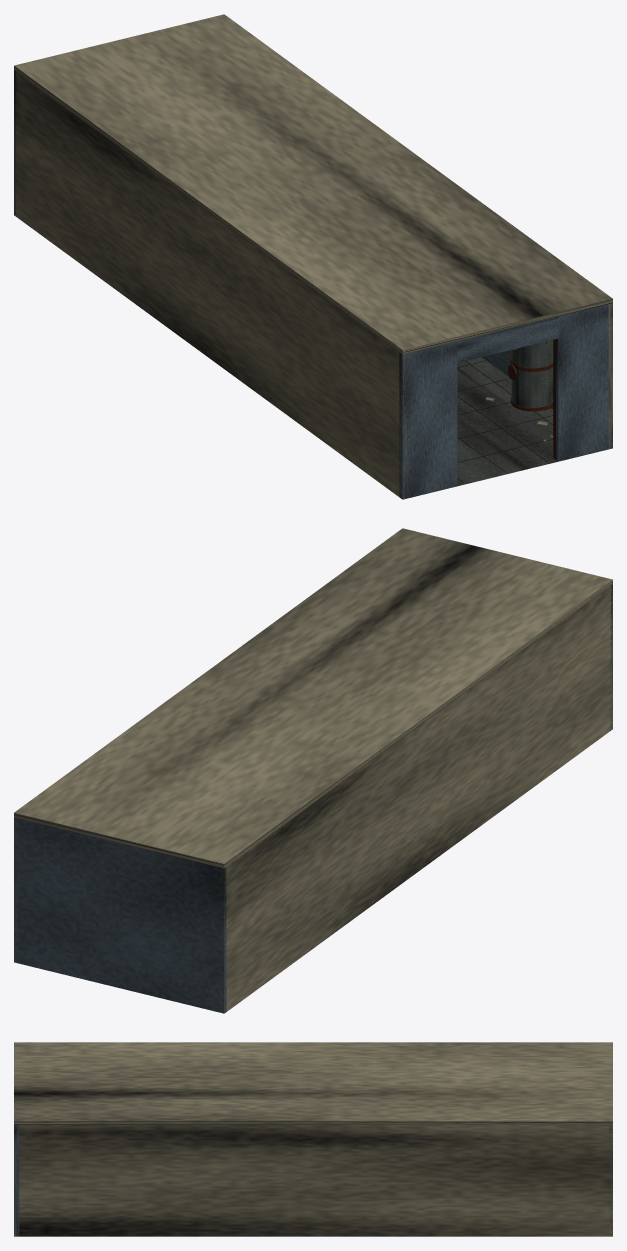
File: filtration.glb
3 views of the same model, one above another, from view 1: azimuth 30°, elevation 25°; view 2: azimuth 150°, elevation 25°; view 3: azimuth 270°, elevation 25° (orthographic). The views are drawn at different scales.
Visible parts, largest first — view 1: static-plaster, static-paint, static-stone, static-metal, static-rust; view 2: static-plaster, static-paint; view 3: static-plaster, static-paint.
Part boxes in pixels (<box>): static-plaster: <box>14,14,612,499</box>; static-paint: <box>14,70,612,499</box>; static-stone: <box>457,357,557,486</box>; static-metal: <box>511,340,553,411</box>; static-rust: <box>407,339,607,459</box>; static-plaster: <box>14,528,612,1013</box>; static-paint: <box>14,584,612,1013</box>; static-plaster: <box>14,1042,612,1236</box>; static-paint: <box>14,1124,612,1236</box>.
Size of the model in its own units: 5 by 3.4 by 16.
13 materials, 9 textured.
